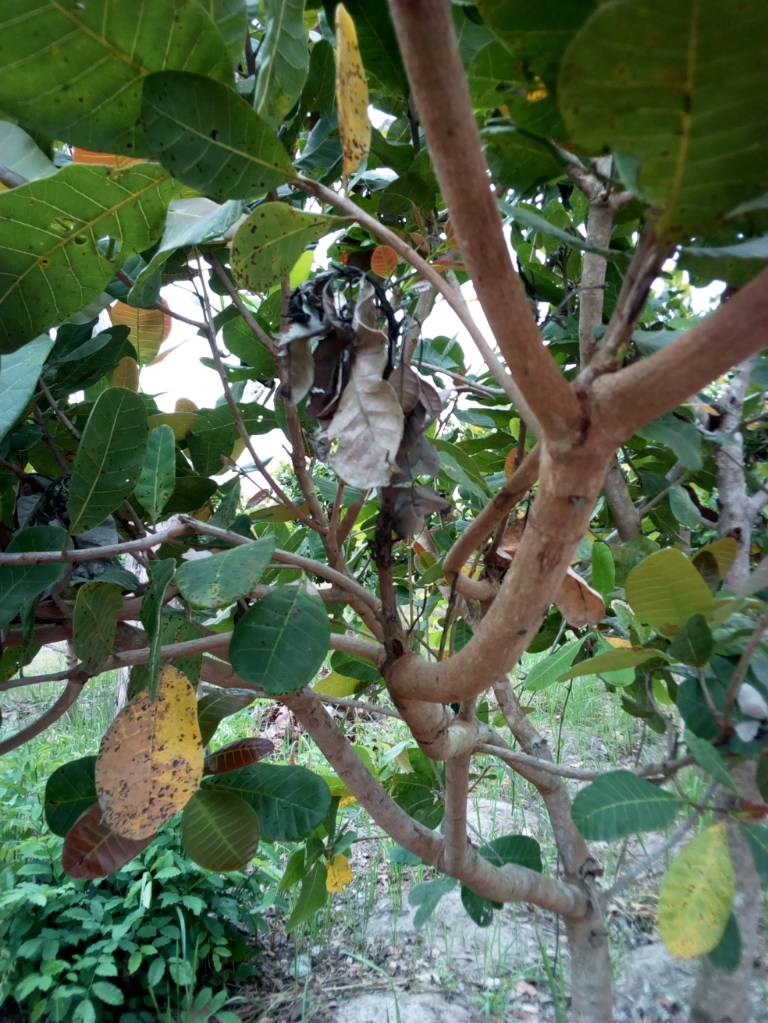Pestalotiose: (1, 175, 147, 308), (100, 669, 191, 838), (229, 205, 330, 286), (336, 1, 365, 174), (74, 580, 116, 672)
